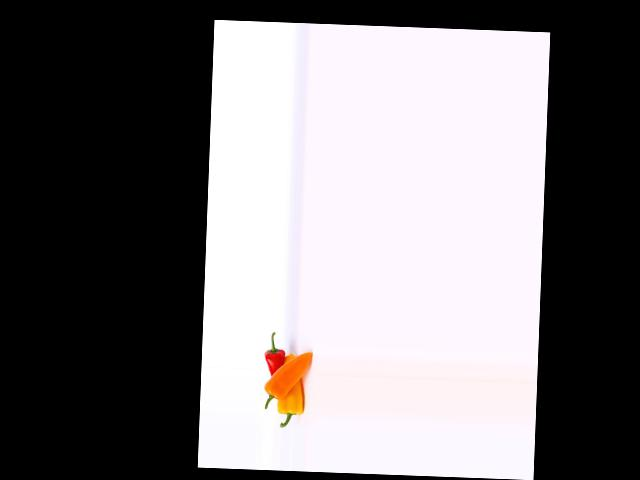bell_pepper: (273, 371, 310, 430)
